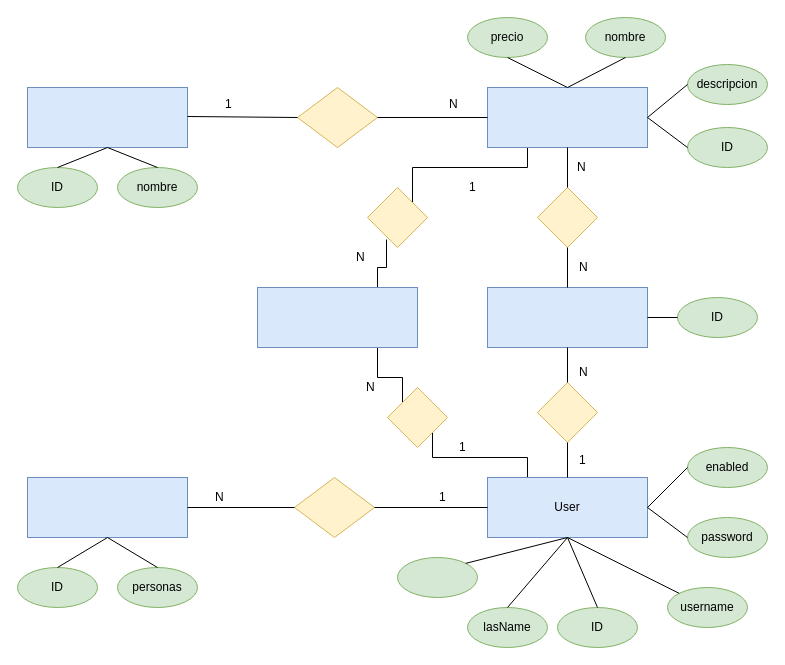
Image size: 785x665. Some labels were removed from this diagram. The box of each missing label's shape, as (x1, y1, x2, y2) in pixels:
Categoria: (26, 86, 188, 148)
name: (396, 556, 478, 598)
Pedidos: (486, 286, 648, 348)
Plato: (486, 86, 648, 148)
Reserva: (26, 476, 188, 538)
Valoracion: (256, 286, 418, 348)
